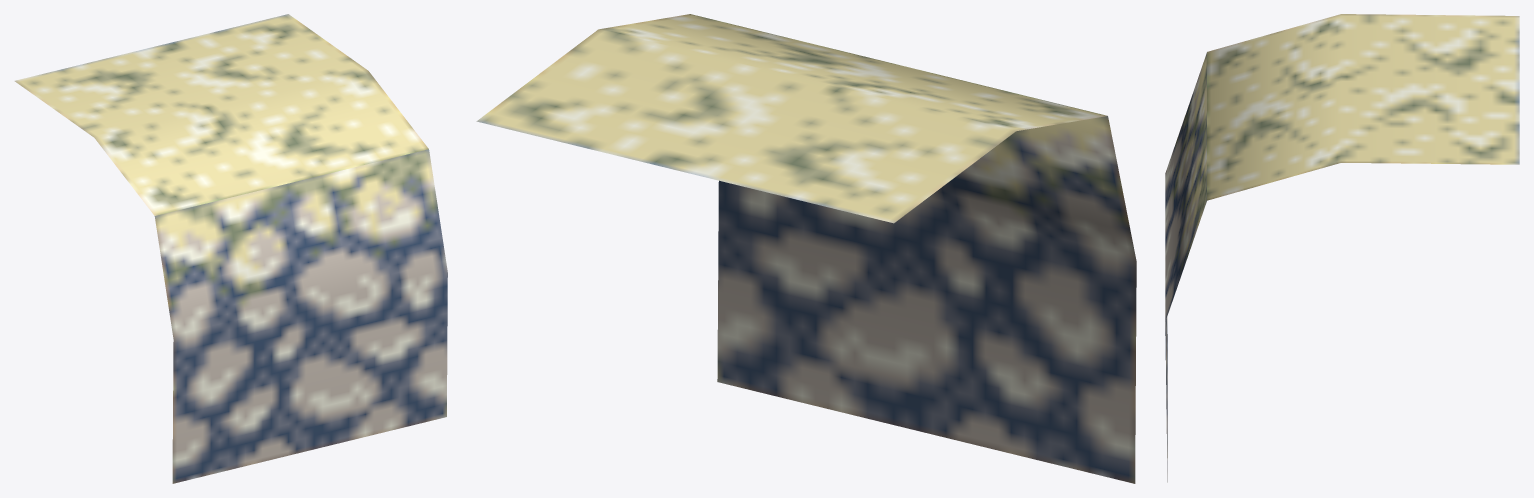
File: sandCTile_groundEdge_lower.fbx
3 views of the same model, side by side, from view 1: azimuth 30°, elevation 25°; view 2: azimuth 150°, elevation 25°; view 3: azimuth 270°, elevation 25° (orthographic). The views are drawn at different scales.
Parts seen in each view (by area): view 1: sandCTile_groundEdge_lower; view 2: sandCTile_groundEdge_lower; view 3: sandCTile_groundEdge_lower.
Part boxes in pixels (<box>): sandCTile_groundEdge_lower: <box>14,14,447,483</box>; sandCTile_groundEdge_lower: <box>476,14,1136,483</box>; sandCTile_groundEdge_lower: <box>1165,14,1519,482</box>.
Size of the model in its own units: 1 by 1.01 by 1.01.
